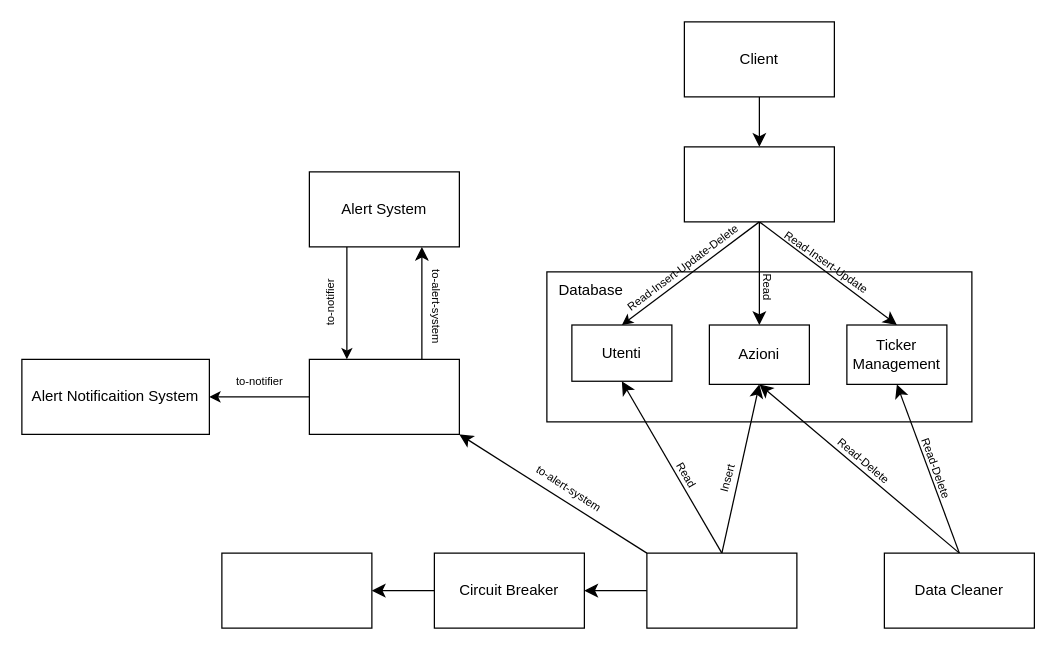
Some shapes in this 1056 by 650 pixel diagram are drawn without their labels. Here are the shapes that lost their labels. From the top down, the centre of each, then its label:
At point (758, 184): "Server".
At point (383, 396): "Kafka Broker".
At point (296, 590): "YahooFinance".
At point (721, 590): "Data Collector".
